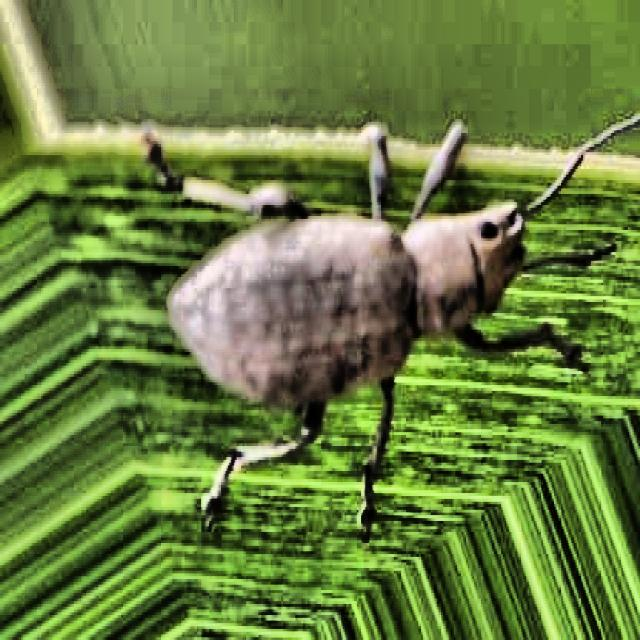Stink bug: (171, 50, 624, 445)
